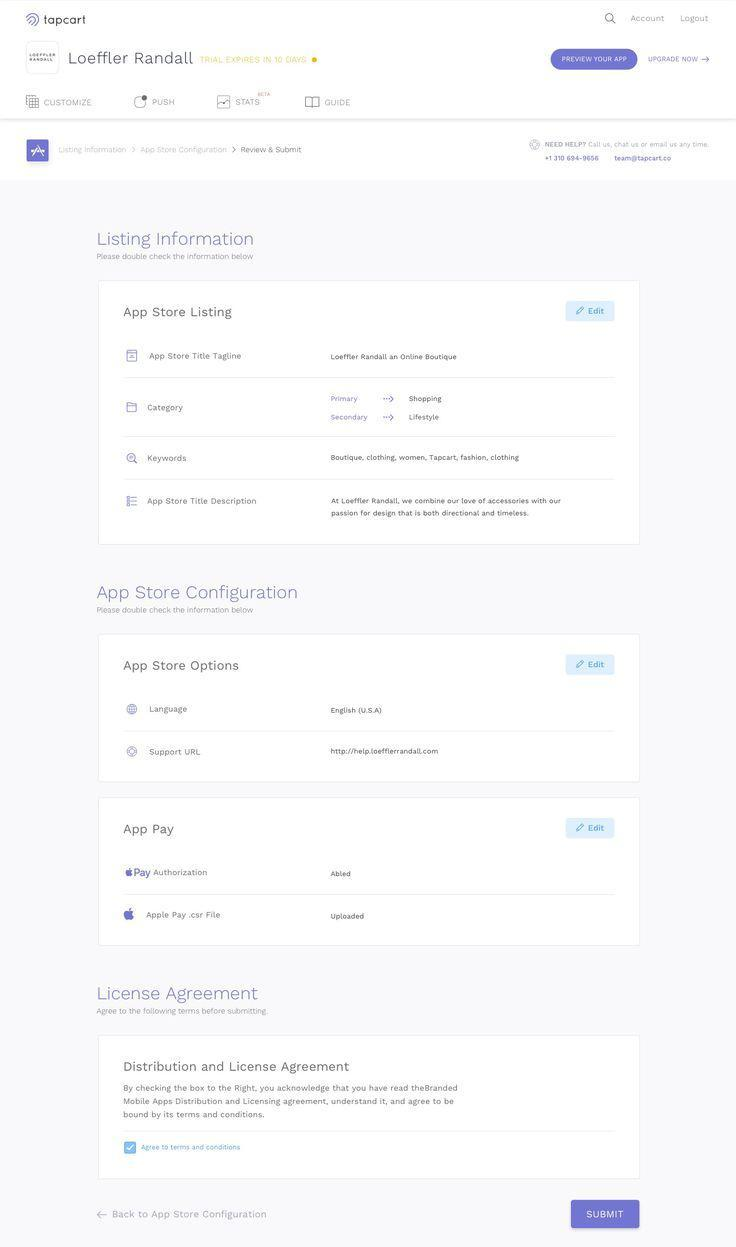button: (571, 1201, 641, 1230), (551, 49, 639, 72), (567, 656, 616, 676), (567, 819, 615, 839), (567, 303, 616, 321)
checkbox: (125, 1142, 138, 1154)
icon: (124, 702, 145, 724), (124, 447, 142, 471), (124, 493, 144, 514), (123, 348, 145, 367), (122, 397, 141, 417), (120, 908, 138, 927), (127, 744, 138, 762)
label: (148, 491, 261, 511), (148, 347, 246, 366), (139, 908, 226, 924), (142, 1144, 244, 1153), (145, 398, 191, 417), (149, 746, 206, 759), (148, 452, 192, 467), (647, 56, 712, 65), (148, 705, 193, 717)
